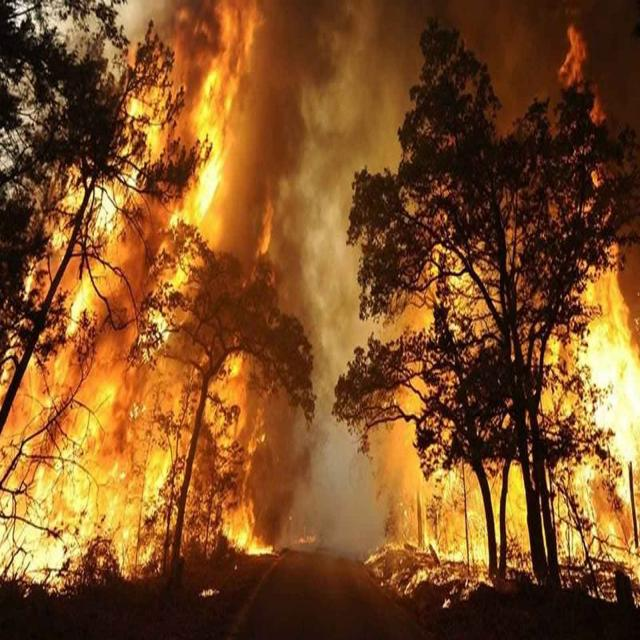Fire: (0, 0, 307, 611), (540, 272, 640, 571), (400, 465, 489, 571)
